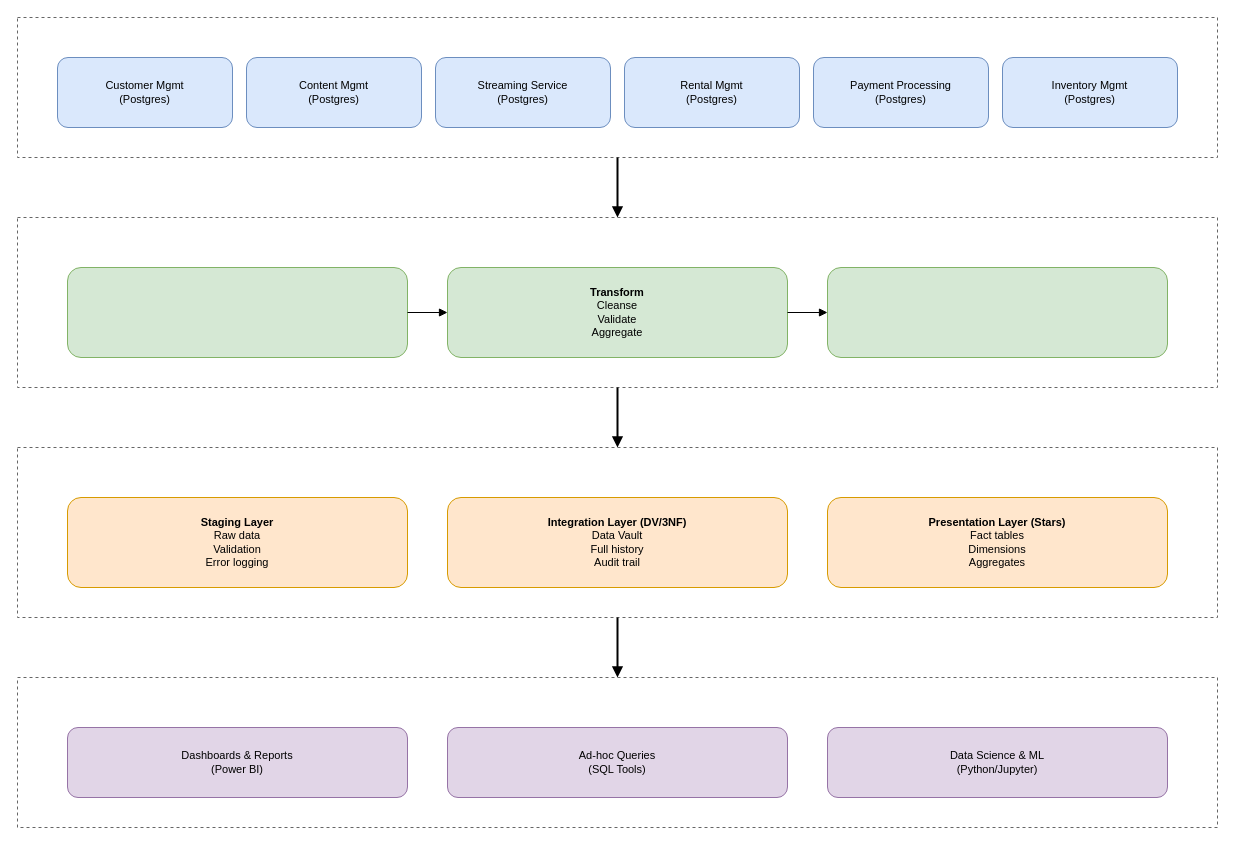
Some shapes in this 1235 by 845 pixel diagram are drawn without their labels. The box of each missing label's shape, as (x1, y1, x2, y2) in pixels:
Extract Incremental Full Load CDC: (66, 266, 408, 358)
LAYER 1: DATA SOURCES (Operational Systems): (16, 16, 1218, 158)
LAYER 2: ETL / DATA INTEGRATION LAYER (Apache NiFi): (16, 216, 1218, 388)
LAYER 3: DATA WAREHOUSE (PostgreSQL): (16, 446, 1218, 618)
LAYER 4: BUSINESS INTELLIGENCE LAYER: (16, 676, 1218, 828)
Load Dimension Load Fact Load SCD Processing: (826, 266, 1168, 358)
